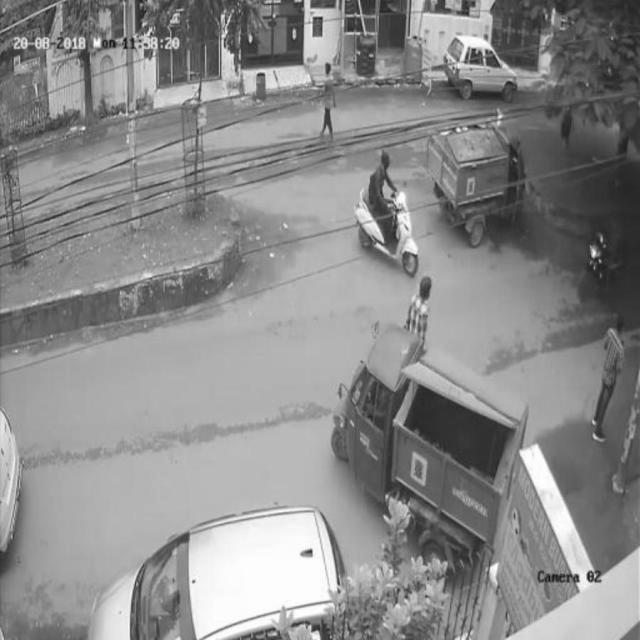person: (593, 308, 623, 452), (317, 58, 339, 144)
vehicle: (331, 325, 531, 575), (83, 505, 356, 639), (421, 106, 531, 247), (352, 150, 423, 274), (442, 30, 518, 103)
